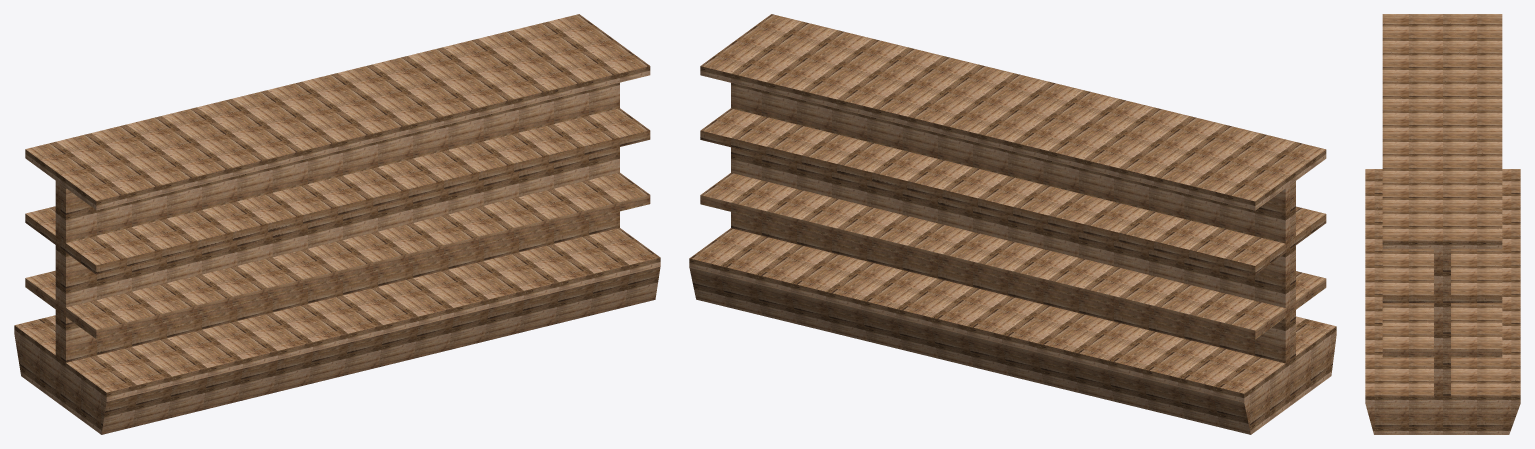
File: doubleShelfObj.obj
3 views of the same model, side by side, from view 1: azimuth 30°, elevation 25°; view 2: azimuth 150°, elevation 25°; view 3: azimuth 270°, elevation 25° (orthographic). The views are drawn at different scales.
Visible parts, largest first — view 1: doubleShelfObj; view 2: doubleShelfObj; view 3: doubleShelfObj.
Part boxes in pixels (left/top/right/bottom): doubleShelfObj: left=14, top=14, right=660, bottom=434; doubleShelfObj: left=689, top=14, right=1336, bottom=434; doubleShelfObj: left=1365, top=14, right=1520, bottom=434.
Size of the model in its own units: 15.75 by 6.25 by 4.54.
Materials: 1 (1 with a texture image).
